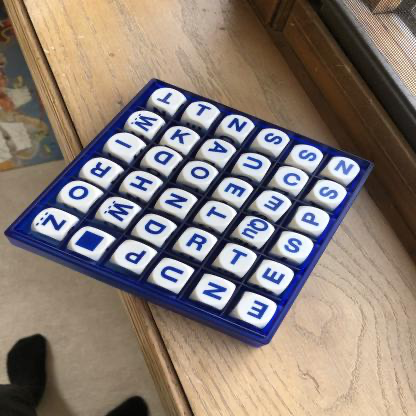a: (201, 139, 234, 163)
c: (275, 168, 307, 192)
d: (136, 217, 174, 242), (147, 148, 179, 173)
e: (238, 295, 277, 326), (257, 264, 292, 291), (219, 180, 251, 202), (258, 194, 289, 215)
h: (124, 173, 159, 196)
i: (108, 133, 142, 156)
k: (165, 127, 197, 149)
n: (197, 279, 234, 307), (159, 189, 193, 214), (328, 159, 360, 180), (222, 116, 253, 137)
o: (61, 181, 99, 207), (183, 164, 215, 185)
p: (116, 244, 151, 272), (296, 208, 330, 232)
qu: (238, 219, 274, 243)
r: (180, 231, 214, 258), (84, 158, 120, 183)
s: (280, 234, 311, 260), (292, 145, 324, 169), (314, 182, 346, 205), (258, 130, 290, 152)
t: (220, 247, 255, 274), (201, 203, 232, 229), (187, 101, 220, 124), (152, 89, 183, 110)
u: (154, 262, 190, 292), (238, 154, 270, 177)
w: (103, 199, 138, 225), (130, 112, 164, 134)
wild: (71, 230, 112, 257)
z: (35, 210, 72, 238)
